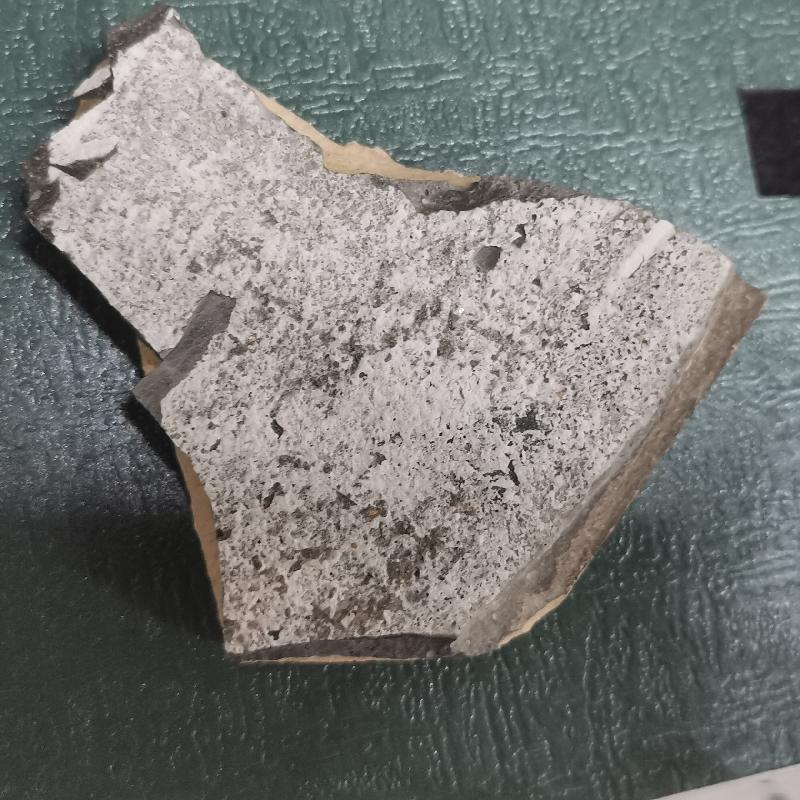tile: (24, 5, 764, 672)
